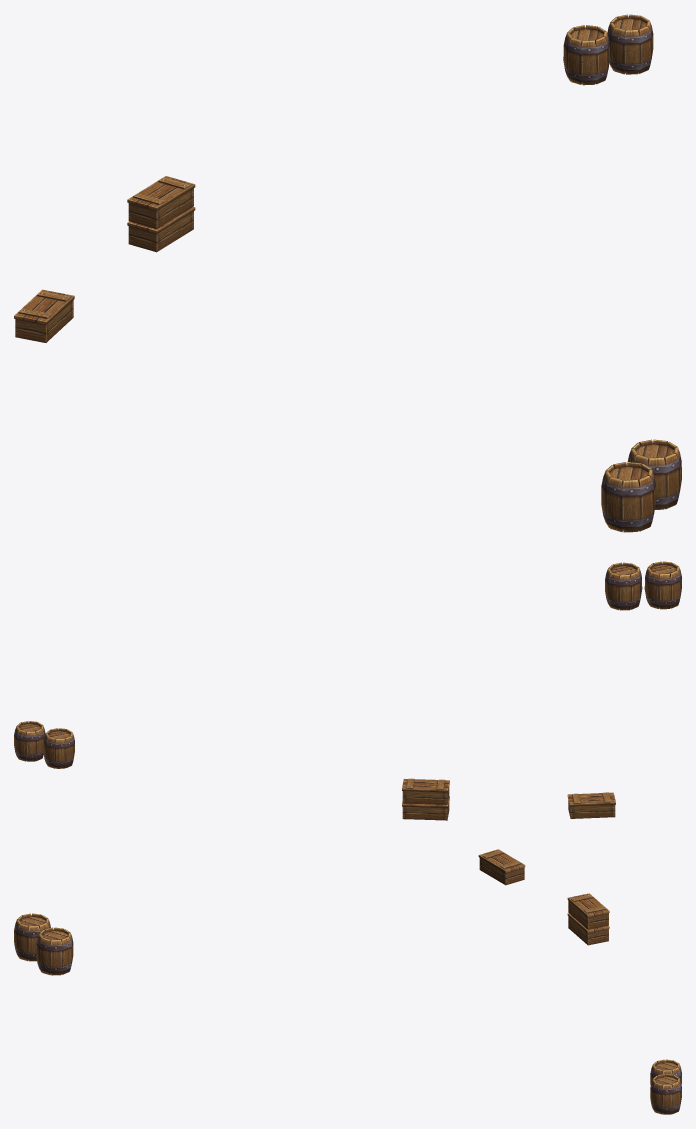
The model's file is Area_06_2.fbx.
The picture shows the model from 3 angles, top to bottom: view 1: azimuth 30°, elevation 25°; view 2: azimuth 150°, elevation 25°; view 3: azimuth 270°, elevation 25°; orthographic projection. The views are drawn at different scales.
Visible parts, largest first — view 1: Area_06_2; view 2: Area_06_2; view 3: Area_06_2.
Boxes of the visible parts, x1,y1,x2,y2 form: Area_06_2: (14, 14, 681, 532); Area_06_2: (14, 561, 681, 820); Area_06_2: (14, 849, 681, 1114).
Size of the model in its own units: 1540 by 98.77 by 1725.
